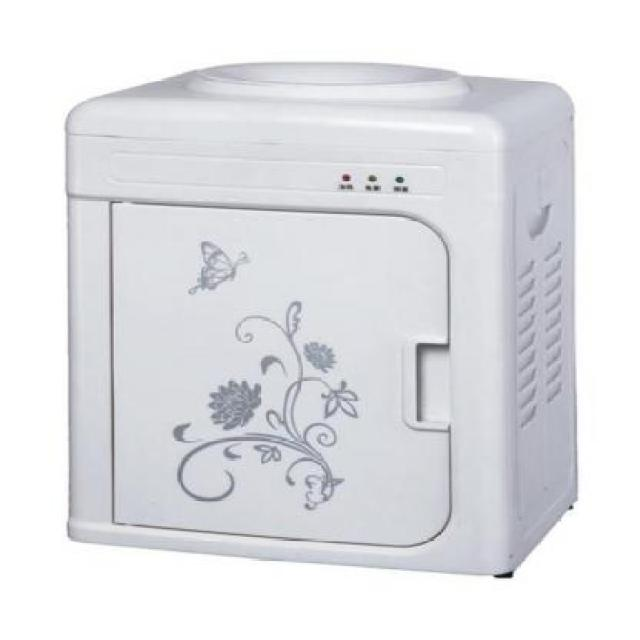cooler: (61, 58, 578, 580)
